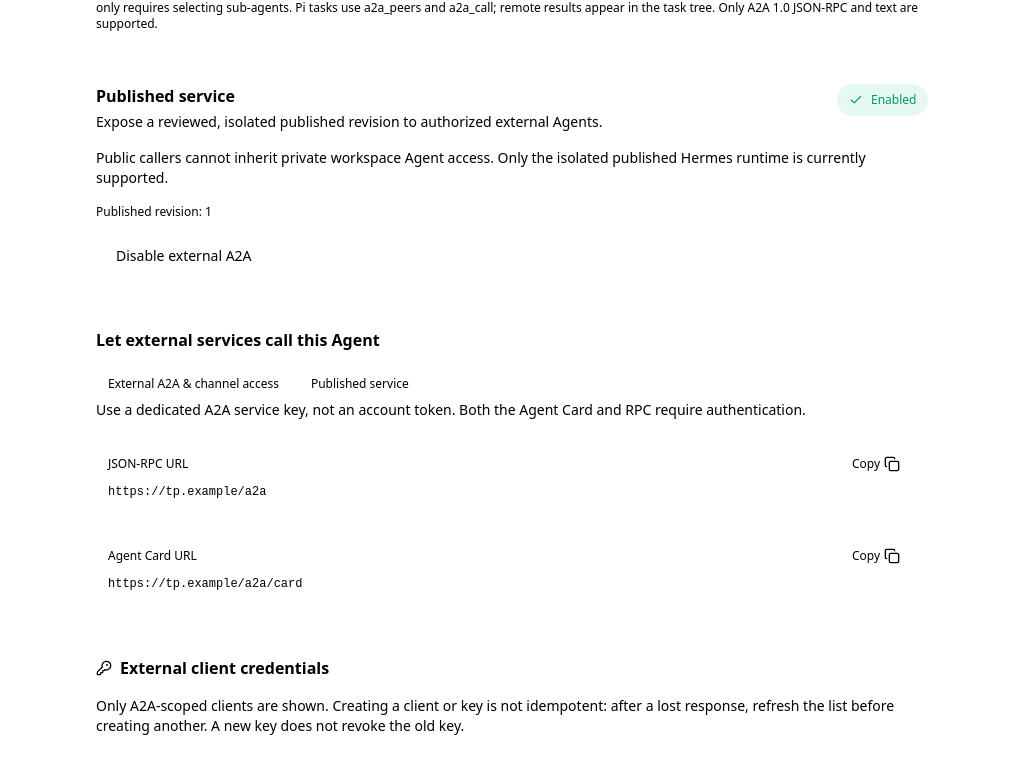
Agent A2A console panel › retains Hermes publication and dedicated service credentials
The width and height of the screenshot is (1024, 757).
(page scrolled)
Expected: the heading "Let external services call this Agent" is shown, [96, 329, 380, 351]
Expected: the heading "Published service" is shown, [96, 85, 235, 107]
Click the button "External A2A & channel access" at (193, 384), box [96, 368, 291, 400]
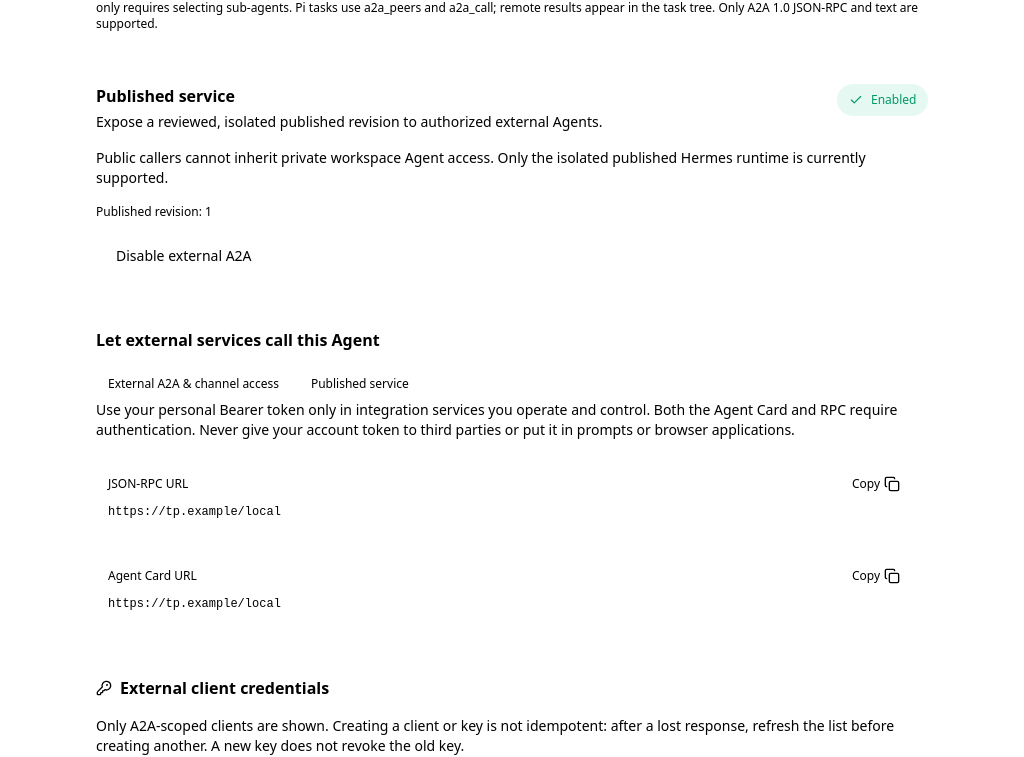
Expected: the text "Never give your account token to third parties" is shown, [96, 400, 897, 439]
